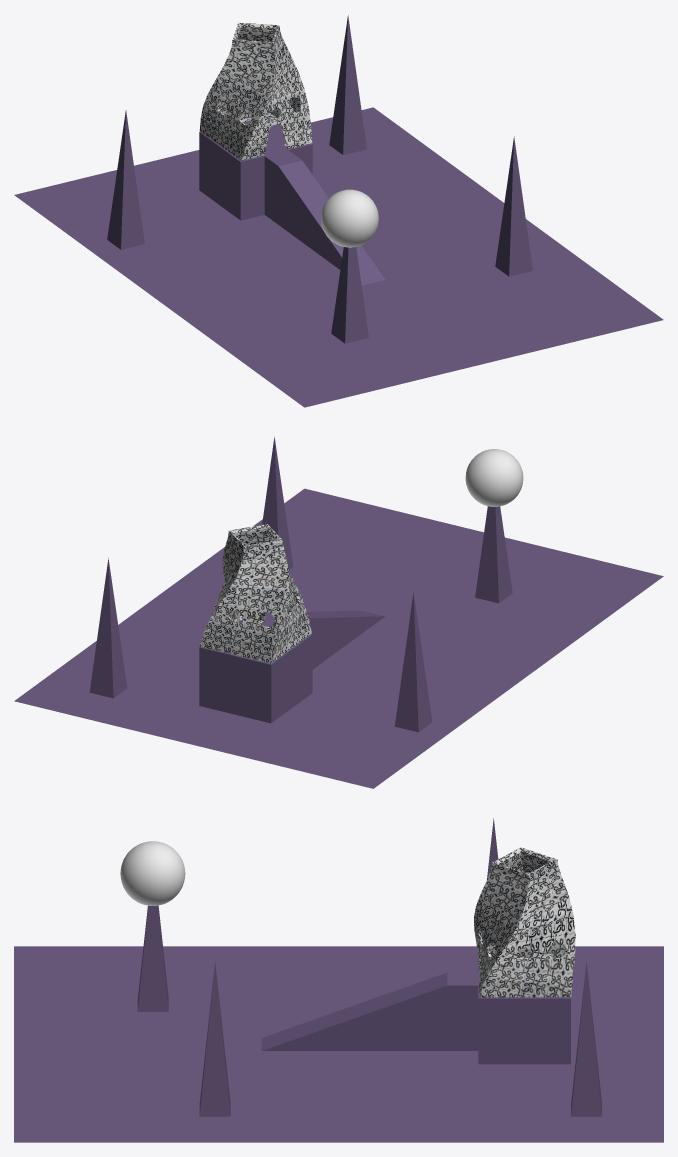
3 views of the same model, one above another, from view 1: azimuth 30°, elevation 25°; view 2: azimuth 150°, elevation 25°; view 3: azimuth 270°, elevation 25° (orthographic). The views are drawn at different scales.
Parts seen in each view (by area): view 1: ground, house, Sphere; view 2: ground, house, Sphere; view 3: ground, house, Sphere.
Boxes of the visible parts, bbox=[...] form: ground: bbox=[14, 15, 663, 407]; house: bbox=[199, 22, 312, 160]; Sphere: bbox=[321, 189, 378, 247]; ground: bbox=[14, 436, 663, 788]; house: bbox=[200, 524, 311, 663]; Sphere: bbox=[465, 449, 523, 506]; ground: bbox=[14, 818, 663, 1142]; house: bbox=[474, 847, 575, 997]; Sphere: bbox=[120, 841, 185, 905].
Size of the model in its own units: 14.29 by 6.23 by 20.
5 materials, 1 textured.
